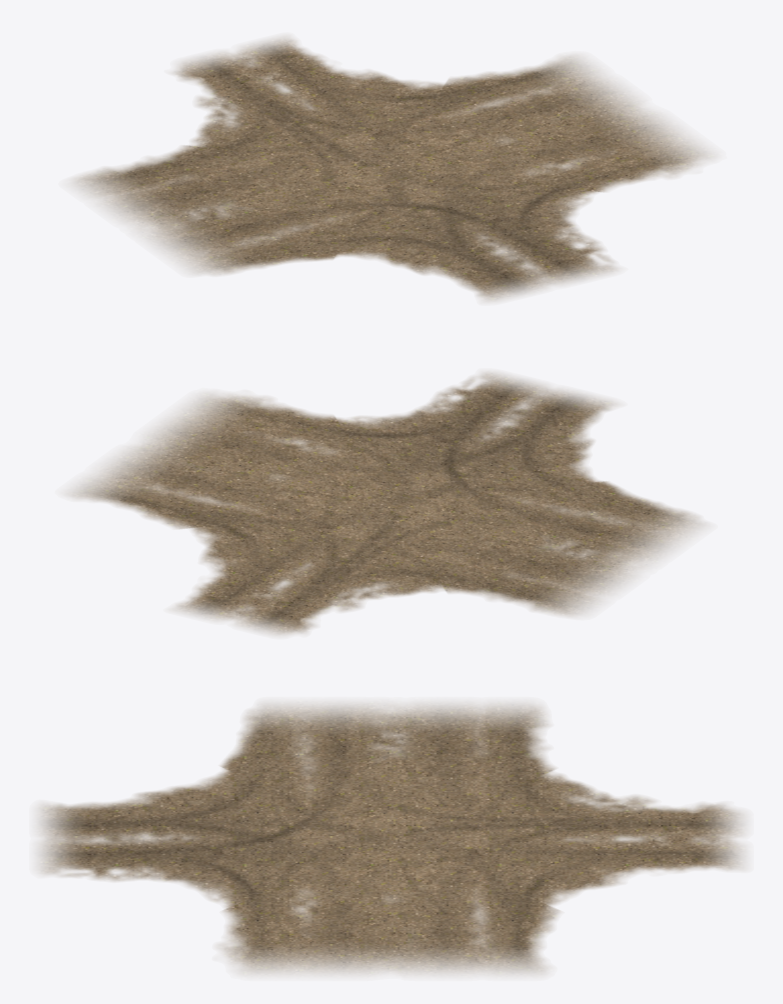
File: road_cross_street_drive.glb
3 views of the same model, one above another, from view 1: azimuth 30°, elevation 25°; view 2: azimuth 150°, elevation 25°; view 3: azimuth 270°, elevation 25° (orthographic). The views are drawn at different scales.
Parts seen in each view (by area): view 1: road_cross_street_drive; view 2: road_cross_street_drive; view 3: road_cross_street_drive.
Boxes of the visible parts, x1,y1,x2,y2 form: road_cross_street_drive: (73,36,712,301); road_cross_street_drive: (68,372,705,635); road_cross_street_drive: (39,703,743,974).
Size of the model in its own units: 13.96 by 0 by 14.79.
1 material, 1 textured.
